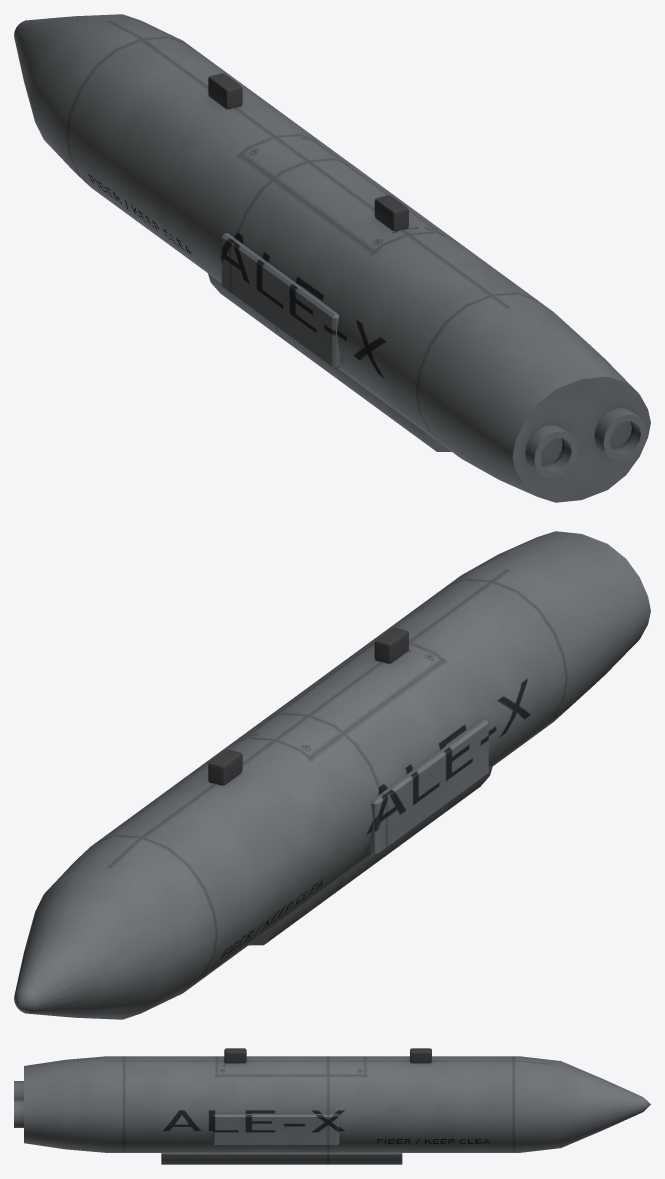
File: AleXPod.fbx
The picture shows the model from 3 angles, top to bottom: view 1: azimuth 30°, elevation 25°; view 2: azimuth 150°, elevation 25°; view 3: azimuth 270°, elevation 25°; orthographic projection. The views are drawn at different scales.
Parts seen in each view (by area): view 1: Skin, Dark; view 2: Skin, Dark; view 3: Skin, Dark.
Part boxes in pixels (<box>): Skin: <box>14,14,650,502</box>; Dark: <box>208,73,634,466</box>; Skin: <box>14,531,650,1019</box>; Dark: <box>208,627,408,785</box>; Skin: <box>14,1056,650,1164</box>; Dark: <box>224,1048,431,1063</box>.
Size of what is drawn, in the model's own units: 27.1 by 33.25 by 172.
2 materials, 1 textured.
